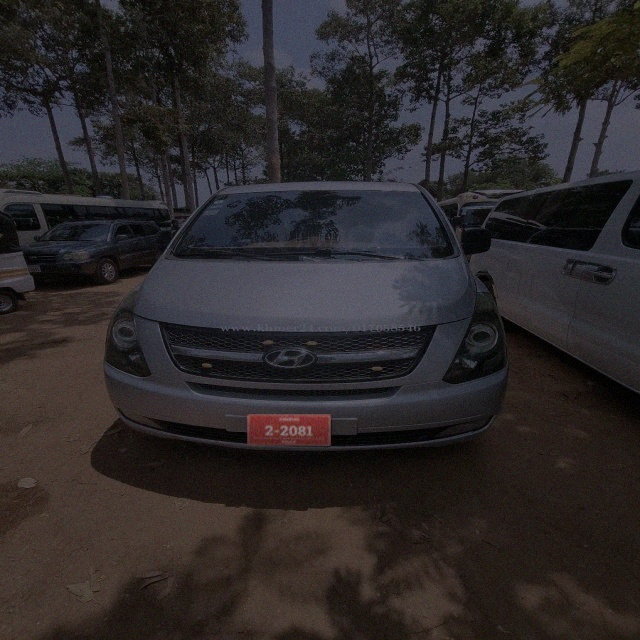Plate Number: (248, 414, 332, 447)
